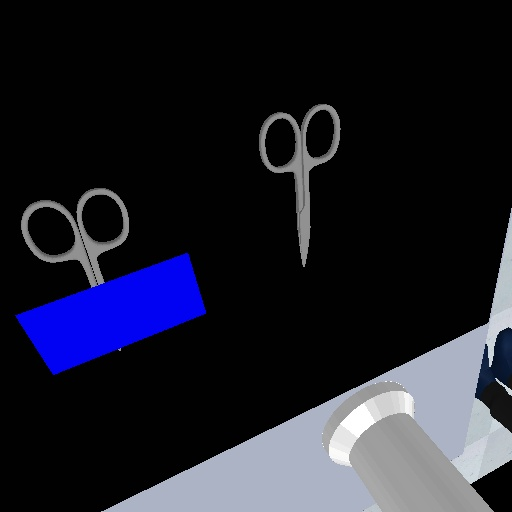tijera: (253, 97, 348, 272), (16, 183, 141, 290)
